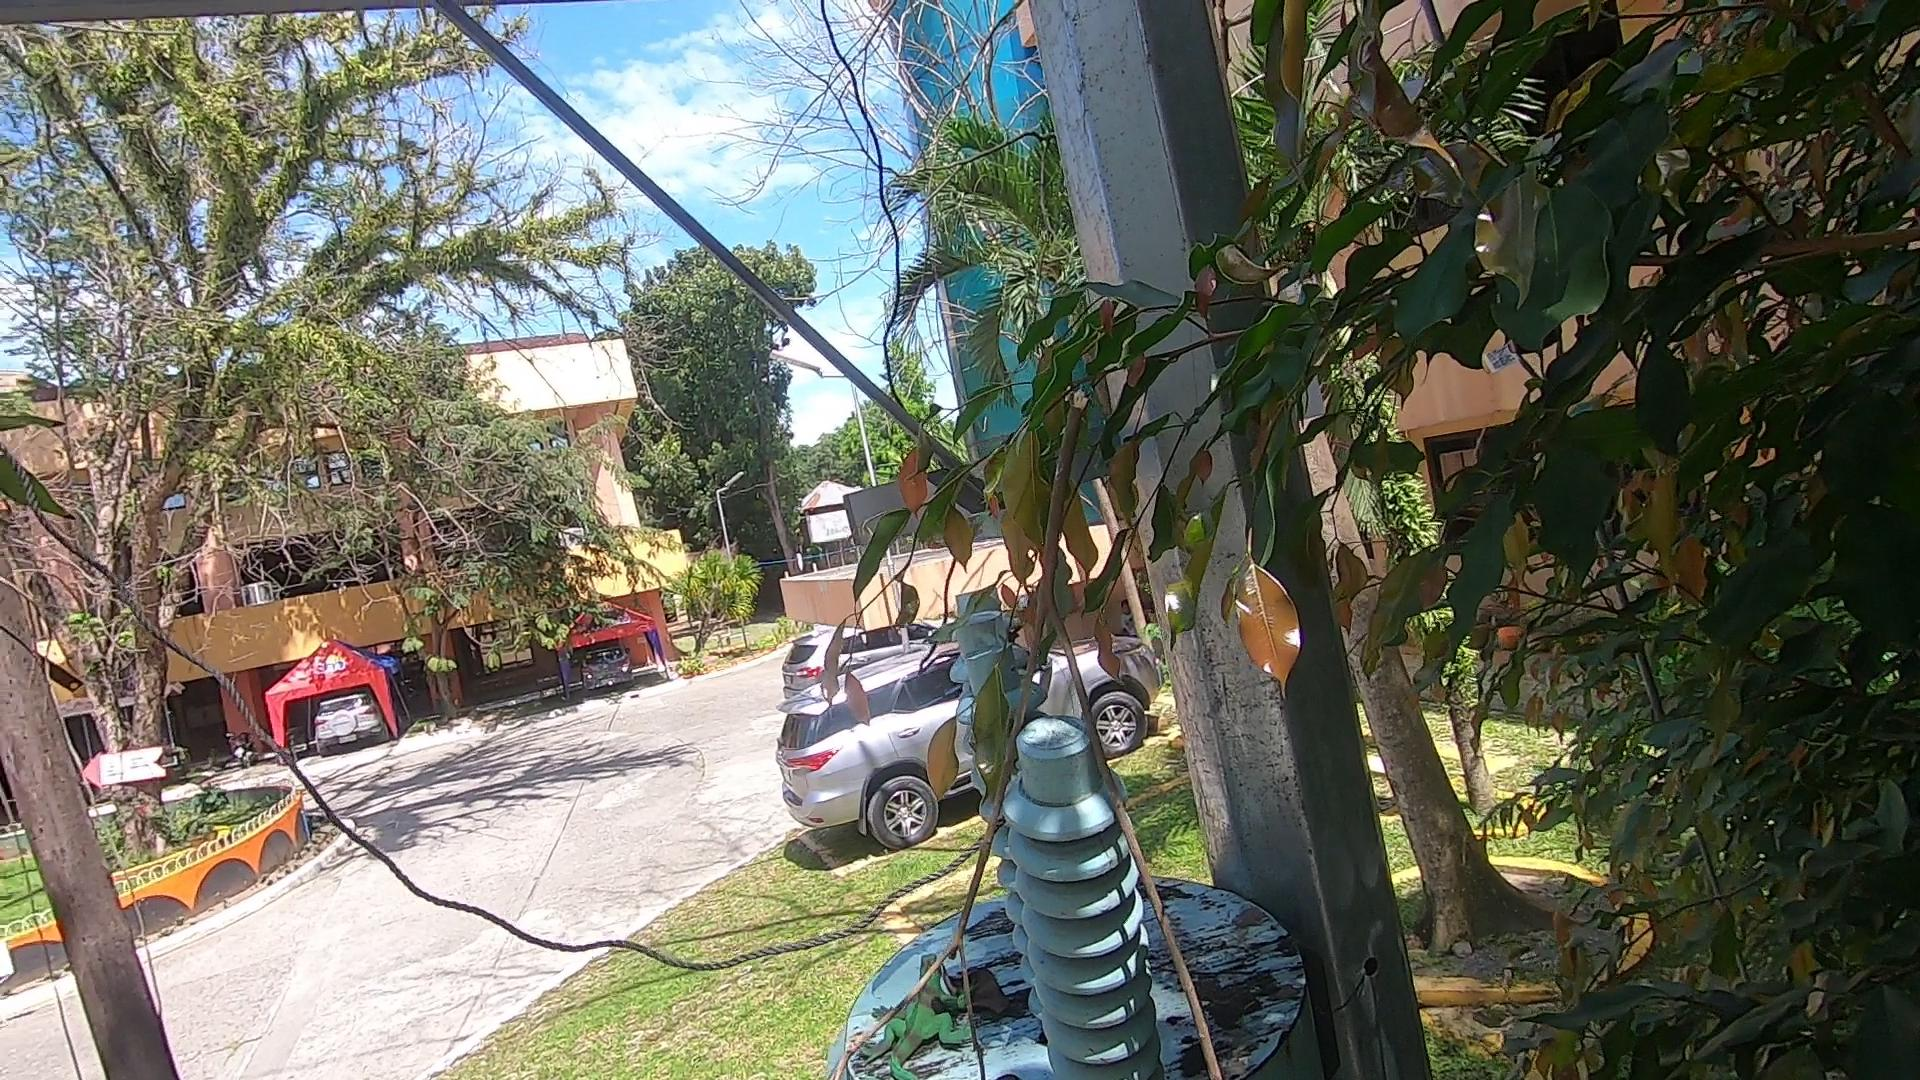leaf: (956, 971, 1023, 1031)
tree branch: (822, 389, 1246, 1080)
